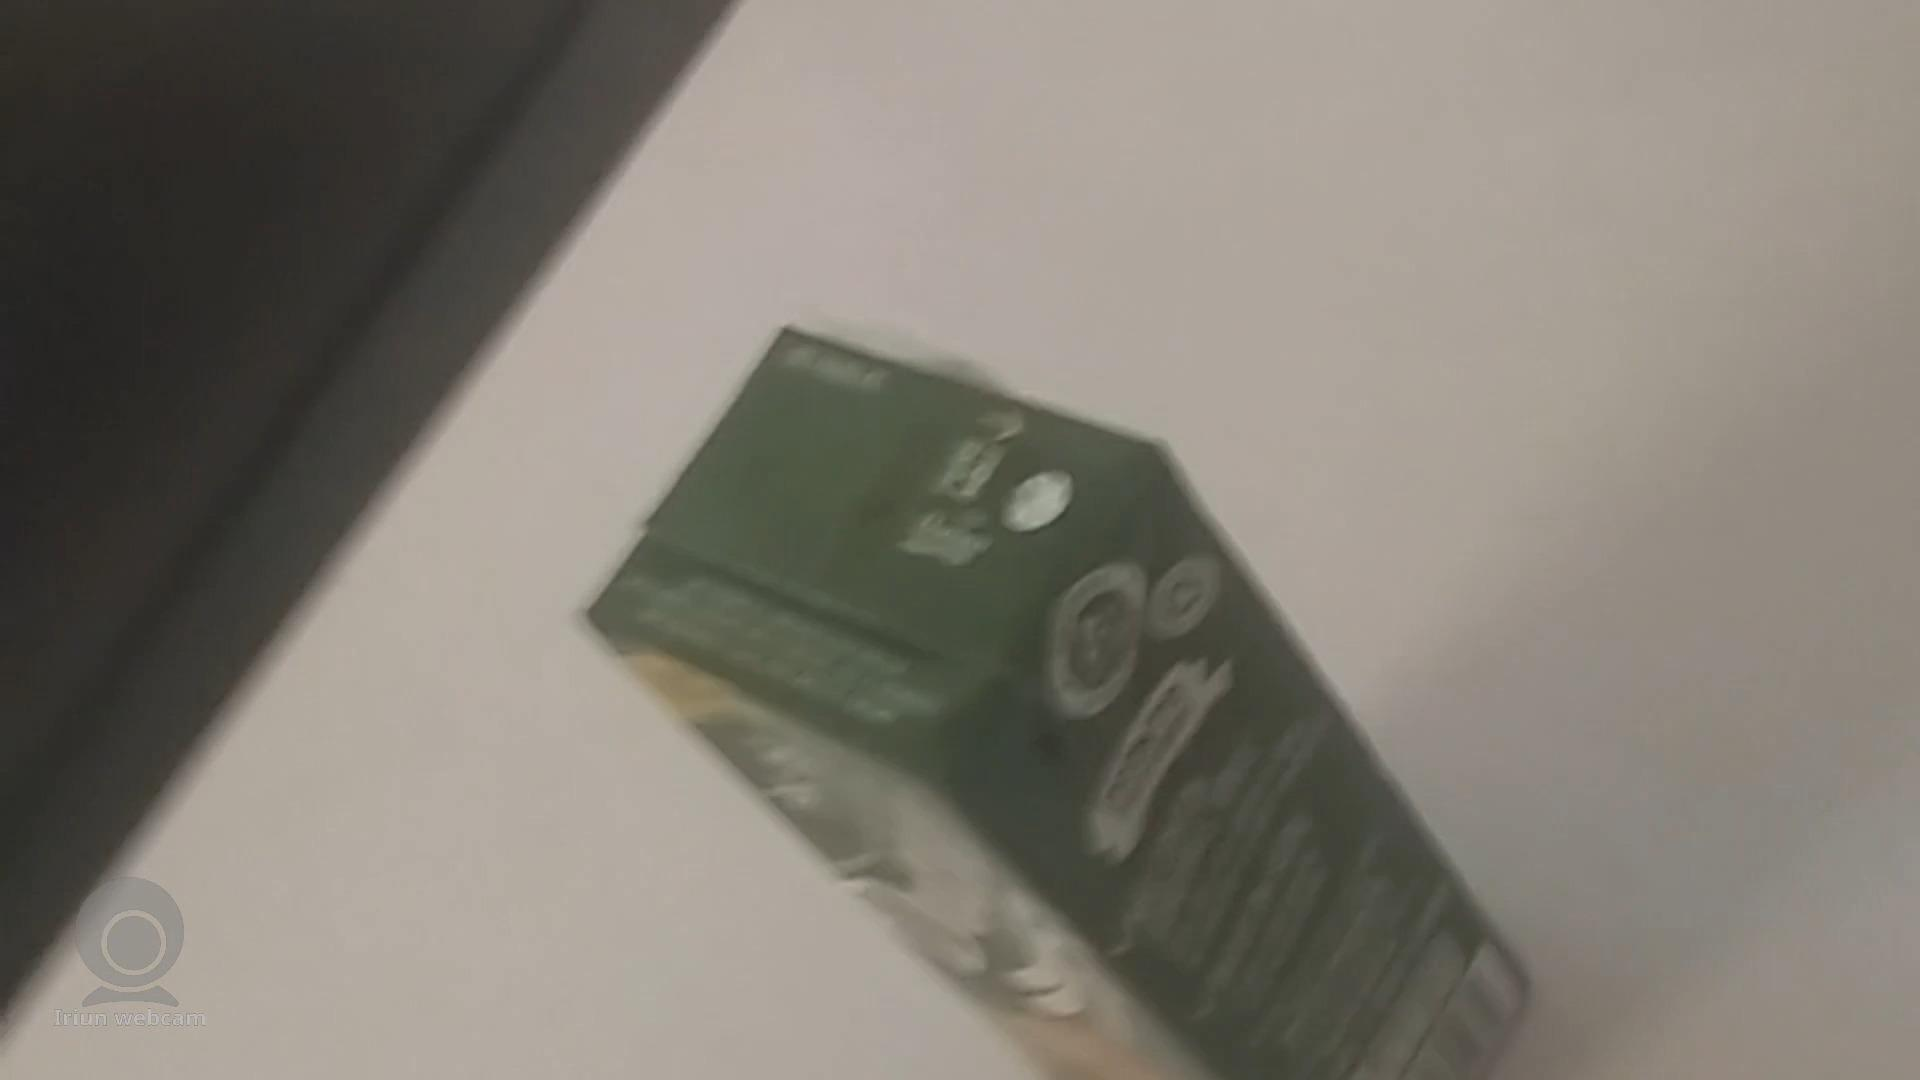coco: (588, 318, 1552, 1080)
